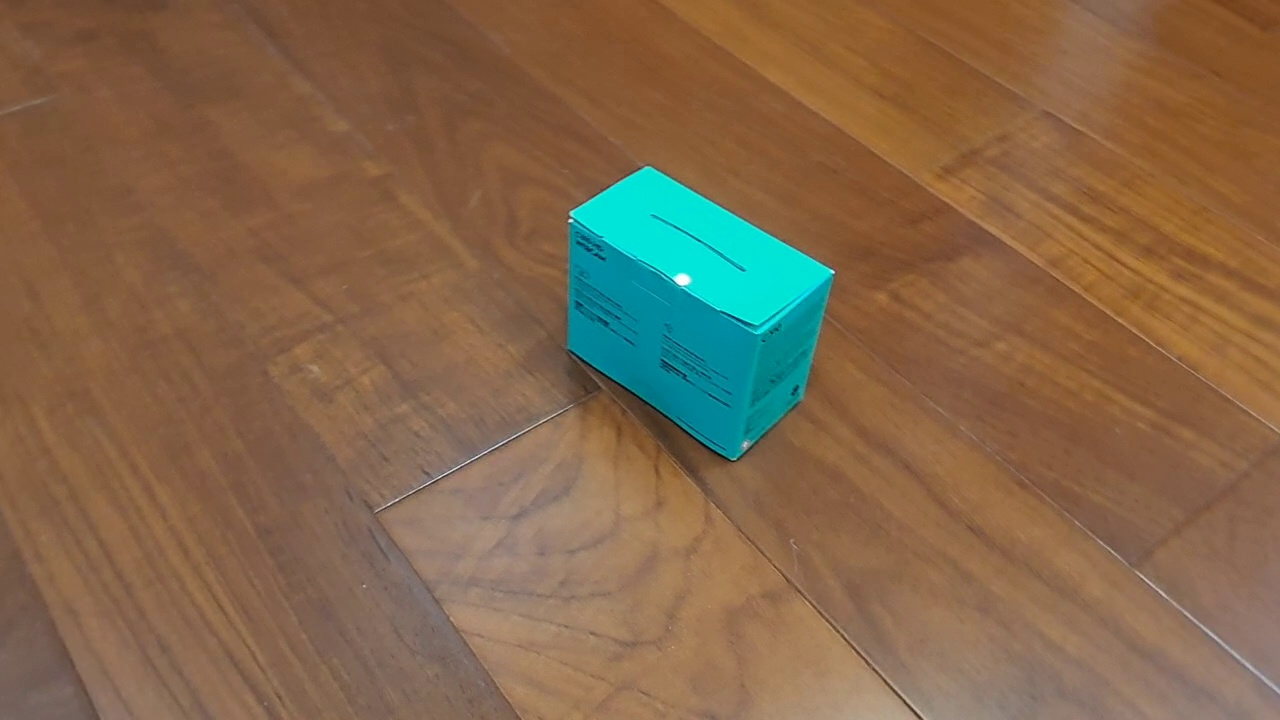webcam: (565, 164, 837, 464)
